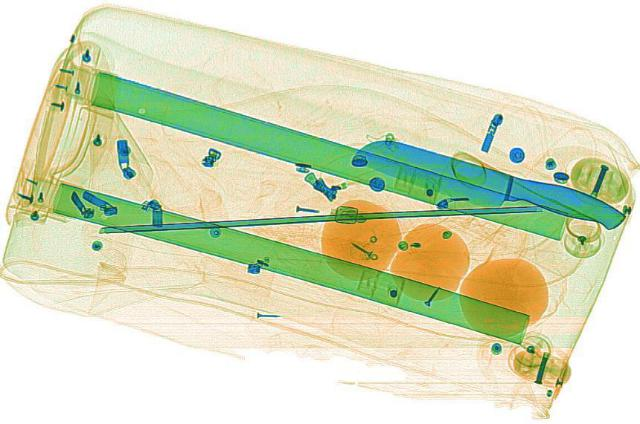Knife: (341, 132, 633, 238)
